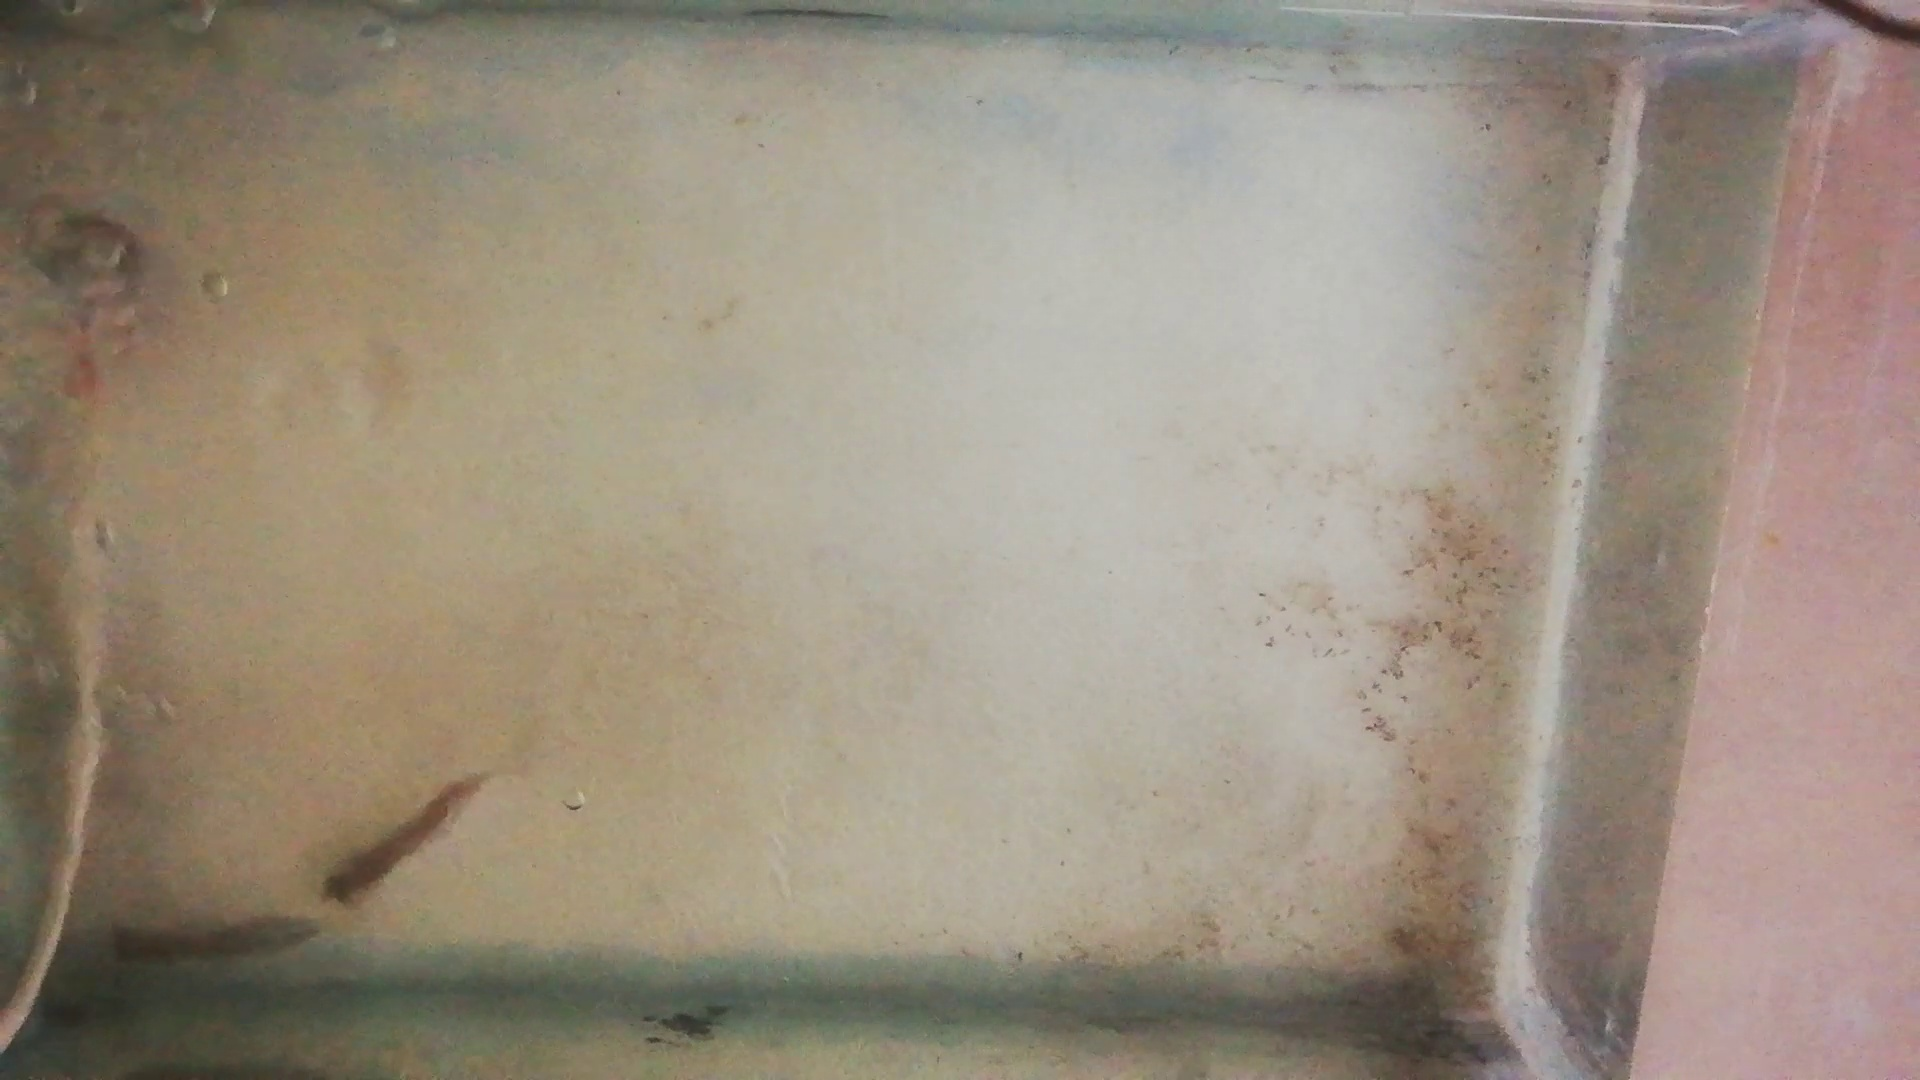fish: (322, 775, 485, 909), (103, 918, 320, 969)
